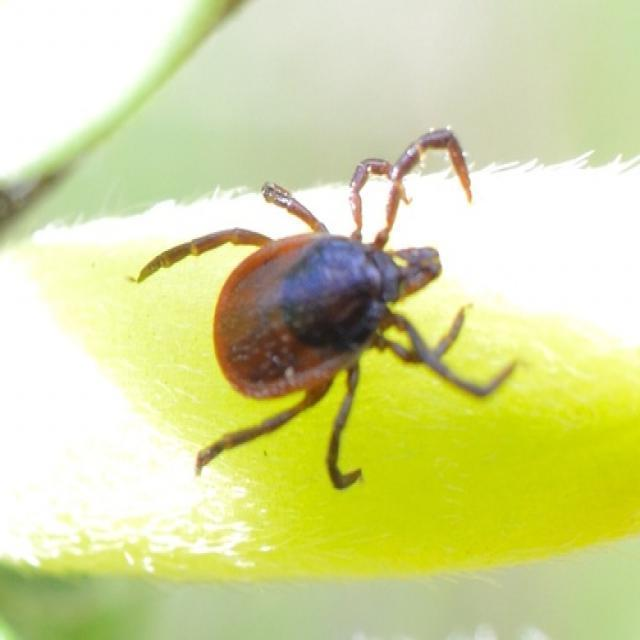Ixodes Ricinus-F: (151, 128, 513, 490)
